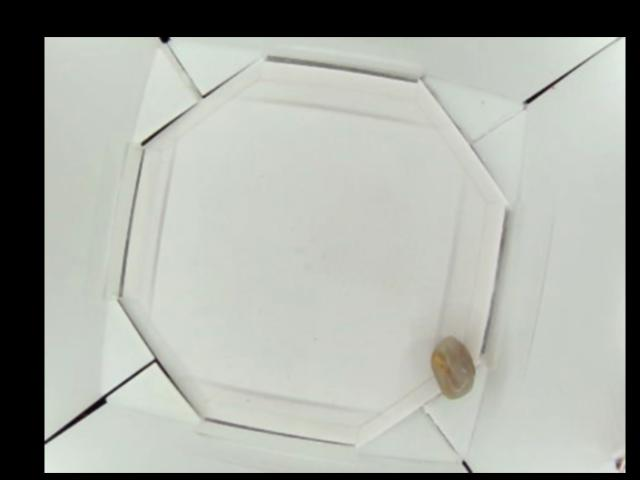Pebble: (431, 335, 475, 398)
